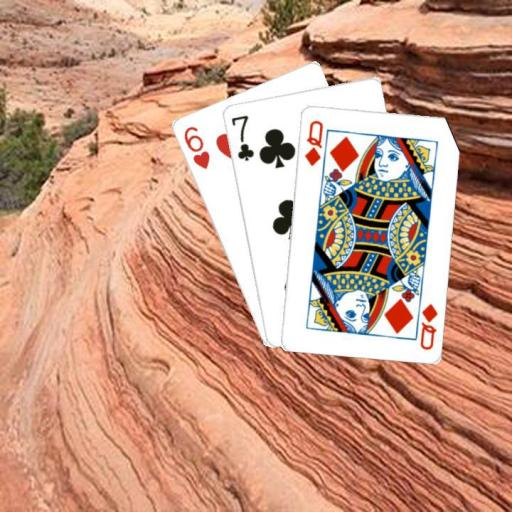6H: (180, 122, 211, 171)
7C: (228, 112, 255, 162)
QD: (416, 300, 439, 352), (301, 117, 324, 167)
